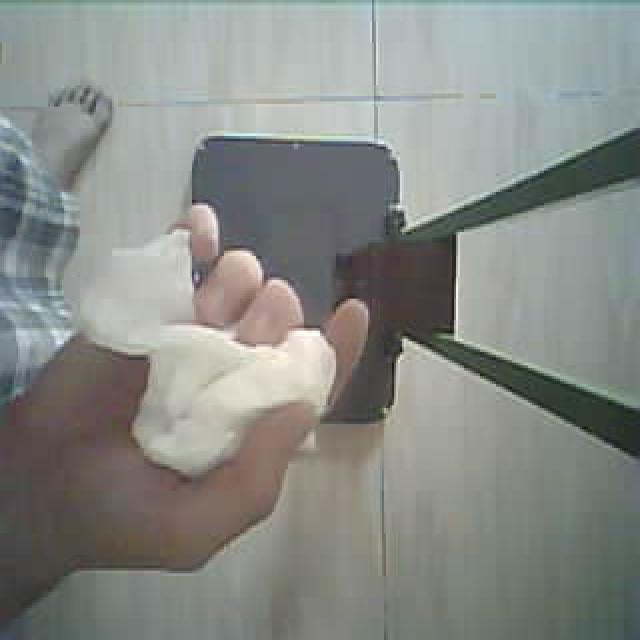Paper: (42, 220, 356, 498)
